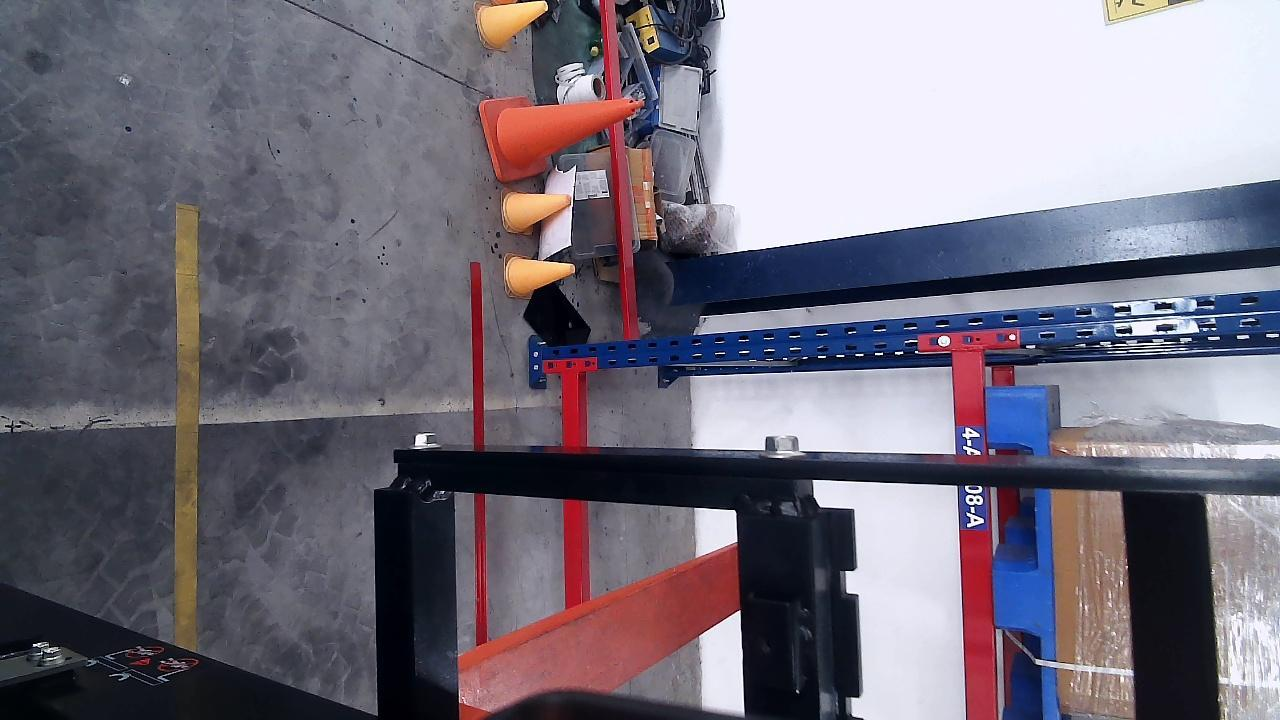h_rack: (950, 351, 1001, 720), (562, 371, 587, 603)
red_line: (468, 262, 488, 644)
small_pallet: (983, 388, 1053, 720)
yellow_line: (175, 202, 200, 654)
